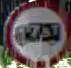Heavy Vehicles: (3, 1, 70, 67)
